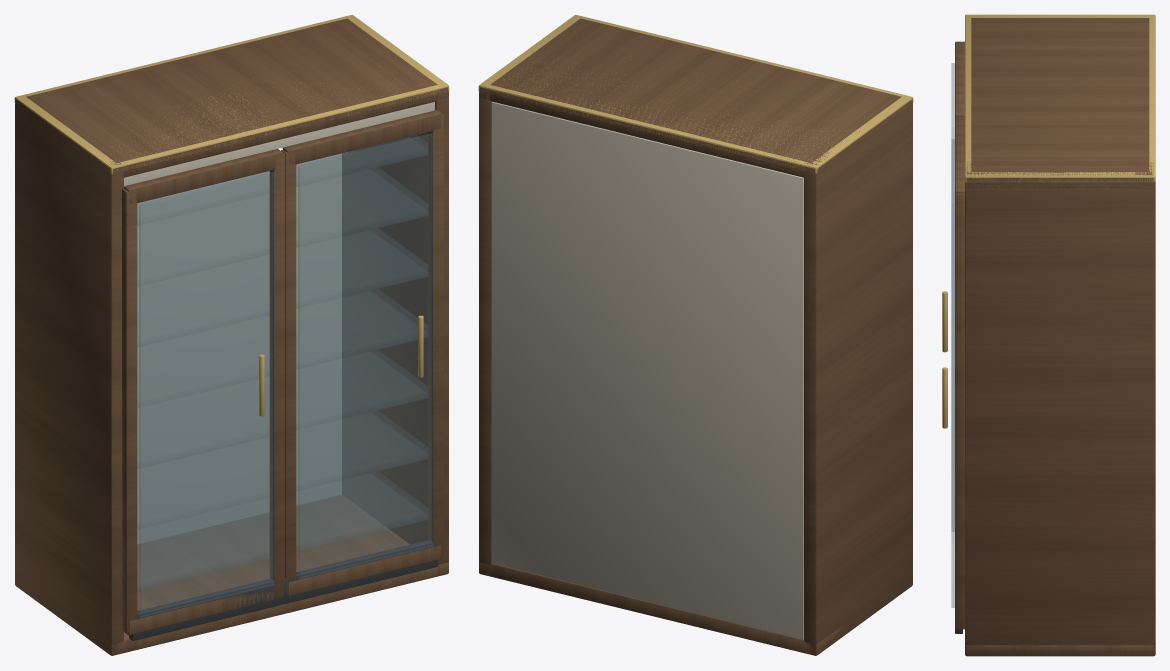
The model's file is pf_display_drink_refrigerator_t4.glb.
The picture shows the model from 3 angles, left to right: view 1: azimuth 30°, elevation 25°; view 2: azimuth 150°, elevation 25°; view 3: azimuth 270°, elevation 25°; orthographic projection.
Visible parts, largest first — view 1: Case_Back, Door_Glass_01, Door_Glass_02, Case_Left, Case_Right, Crown_Main, Case_Base, Shelf_06, Shelf_01, Shelf_05, Shelf_02, Shelf_04 (+14 smaller); view 2: Case_Back, Case_Left, Crown_Main, Case_Right, Crown_Trim, Case_Base, Case_Top; view 3: Case_Right, Crown_Main, Crown_Trim, Door_Frame_02_R, Door_Glass_02, Door_Glass_01, Case_Base, Case_Top, Door_Frame_01_Top, Door_Frame_02_Top, Door_Handle_02, Door_Handle_01.
Part boxes in pixels (left/top/right/bottom): Case_Back: left=137, top=153, right=341, bottom=544; Door_Glass_01: left=139, top=172, right=274, bottom=617; Door_Glass_02: left=298, top=133, right=433, bottom=578; Case_Left: left=15, top=99, right=123, bottom=655; Case_Right: left=342, top=87, right=448, bottom=576; Crown_Main: left=26, top=18, right=437, bottom=162; Case_Base: left=95, top=495, right=448, bottom=655; Shelf_06: left=137, top=152, right=427, bottom=286; Shelf_01: left=137, top=462, right=427, bottom=590; Shelf_05: left=137, top=213, right=427, bottom=346; Shelf_02: left=137, top=401, right=427, bottom=529; Shelf_04: left=137, top=274, right=427, bottom=407; Case_Back: left=492, top=102, right=803, bottom=639; Case_Left: left=804, top=99, right=912, bottom=655; Crown_Main: left=490, top=18, right=901, bottom=162; Case_Right: left=479, top=87, right=492, bottom=576; Crown_Trim: left=478, top=15, right=913, bottom=173; Case_Base: left=479, top=562, right=845, bottom=655; Case_Top: left=480, top=87, right=838, bottom=178; Case_Right: left=965, top=170, right=1155, bottom=656; Crown_Main: left=971, top=18, right=1149, bottom=171; Crown_Trim: left=965, top=14, right=1155, bottom=182; Door_Frame_02_R: left=955, top=193, right=964, bottom=628; Door_Glass_02: left=951, top=139, right=954, bottom=607; Door_Glass_01: left=951, top=63, right=954, bottom=531; Case_Base: left=966, top=645, right=1154, bottom=654; Case_Top: left=966, top=162, right=1155, bottom=188; Door_Frame_01_Top: left=955, top=41, right=964, bottom=117; Door_Frame_02_Top: left=955, top=117, right=964, bottom=193; Door_Handle_02: left=942, top=367, right=947, bottom=428; Door_Handle_01: left=942, top=291, right=947, bottom=352.
Bounding box in the file's own units: 1.65 × 2.28 × 0.917.
7 materials, 2 textured.
